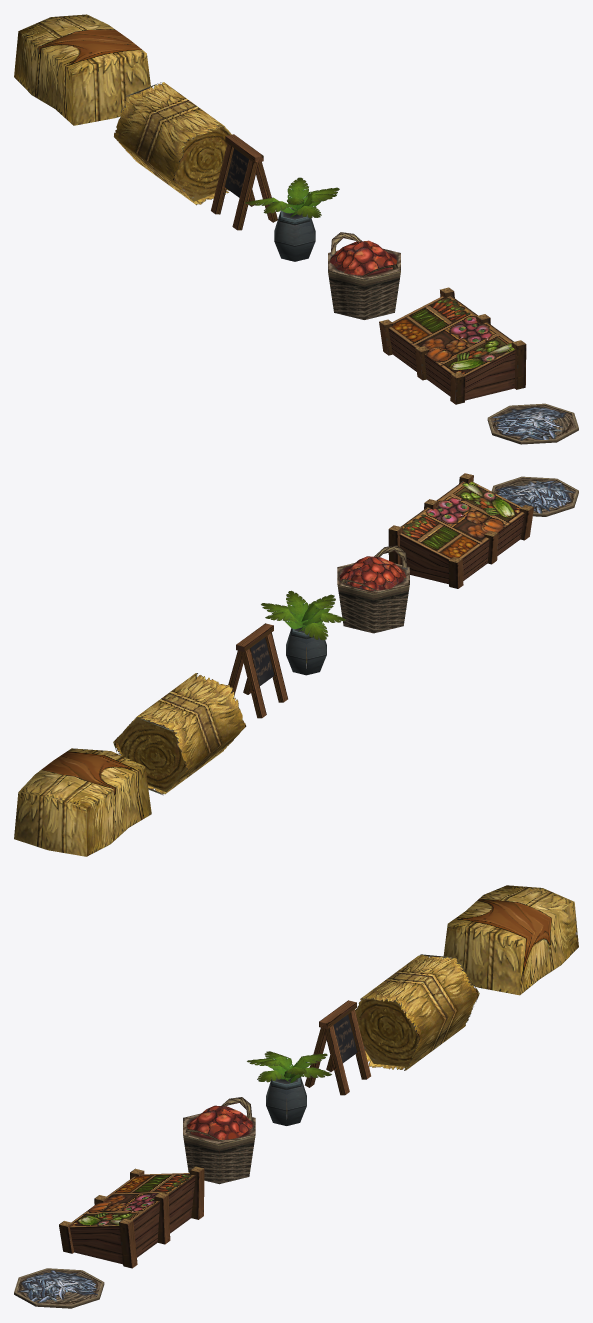
File: 2_CZ_HuoTan_01.FBX
The picture shows the model from 3 angles, top to bottom: view 1: azimuth 30°, elevation 25°; view 2: azimuth 150°, elevation 25°; view 3: azimuth 330°, elevation 25°; orthographic projection.
Visible parts, largest first — view 1: 2_CZ_HuoTan_07, 2_CZ_HuoTan_01, 2_CZ_HuoTan_06, 2_CZ_HuoTan_03, 2_CZ_HuoTan_04, 2_CZ_HuoTan_05, 2_CZ_HuoTan_02; view 2: 2_CZ_HuoTan_07, 2_CZ_HuoTan_01, 2_CZ_HuoTan_06, 2_CZ_HuoTan_03, 2_CZ_HuoTan_04, 2_CZ_HuoTan_05, 2_CZ_HuoTan_02; view 3: 2_CZ_HuoTan_07, 2_CZ_HuoTan_06, 2_CZ_HuoTan_01, 2_CZ_HuoTan_03, 2_CZ_HuoTan_04, 2_CZ_HuoTan_05, 2_CZ_HuoTan_02.
Boxes of the visible parts, left/top/right/bottom form: 2_CZ_HuoTan_07: left=14, top=14, right=150, bottom=125; 2_CZ_HuoTan_01: left=379, top=287, right=526, bottom=404; 2_CZ_HuoTan_06: left=114, top=82, right=231, bottom=205; 2_CZ_HuoTan_03: left=328, top=232, right=400, bottom=319; 2_CZ_HuoTan_04: left=245, top=177, right=339, bottom=261; 2_CZ_HuoTan_05: left=211, top=134, right=277, bottom=230; 2_CZ_HuoTan_02: left=487, top=403, right=578, bottom=444; 2_CZ_HuoTan_07: left=14, top=748, right=151, bottom=856; 2_CZ_HuoTan_01: left=388, top=473, right=533, bottom=588; 2_CZ_HuoTan_06: left=113, top=673, right=246, bottom=795; 2_CZ_HuoTan_03: left=337, top=545, right=409, bottom=633; 2_CZ_HuoTan_04: left=261, top=590, right=345, bottom=675; 2_CZ_HuoTan_05: left=228, top=623, right=287, bottom=718; 2_CZ_HuoTan_02: left=491, top=476, right=578, bottom=516; 2_CZ_HuoTan_07: left=443, top=885, right=578, bottom=995; 2_CZ_HuoTan_06: left=355, top=954, right=479, bottom=1070; 2_CZ_HuoTan_01: left=59, top=1166, right=204, bottom=1268; 2_CZ_HuoTan_03: left=183, top=1097, right=255, bottom=1184; 2_CZ_HuoTan_04: left=247, top=1051, right=331, bottom=1125; 2_CZ_HuoTan_05: left=305, top=1000, right=370, bottom=1095; 2_CZ_HuoTan_02: left=14, top=1268, right=104, bottom=1308.
Size of the model in its own units: 171 by 168 by 1798.
